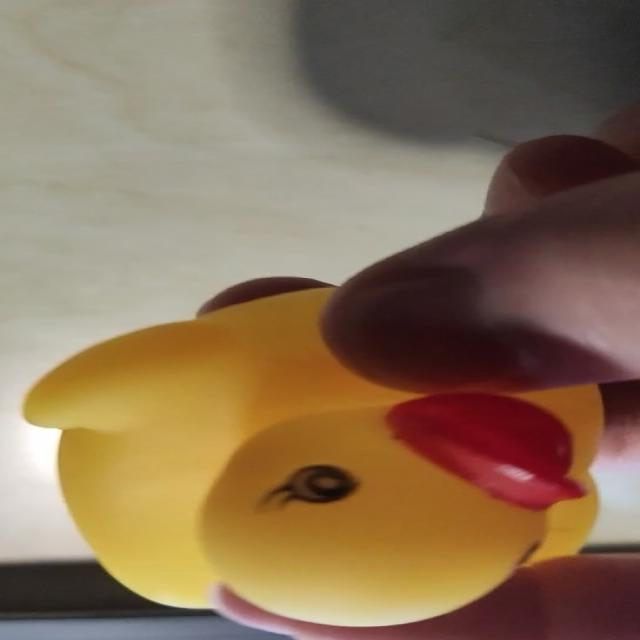rubber-duck: (23, 288, 601, 623)
